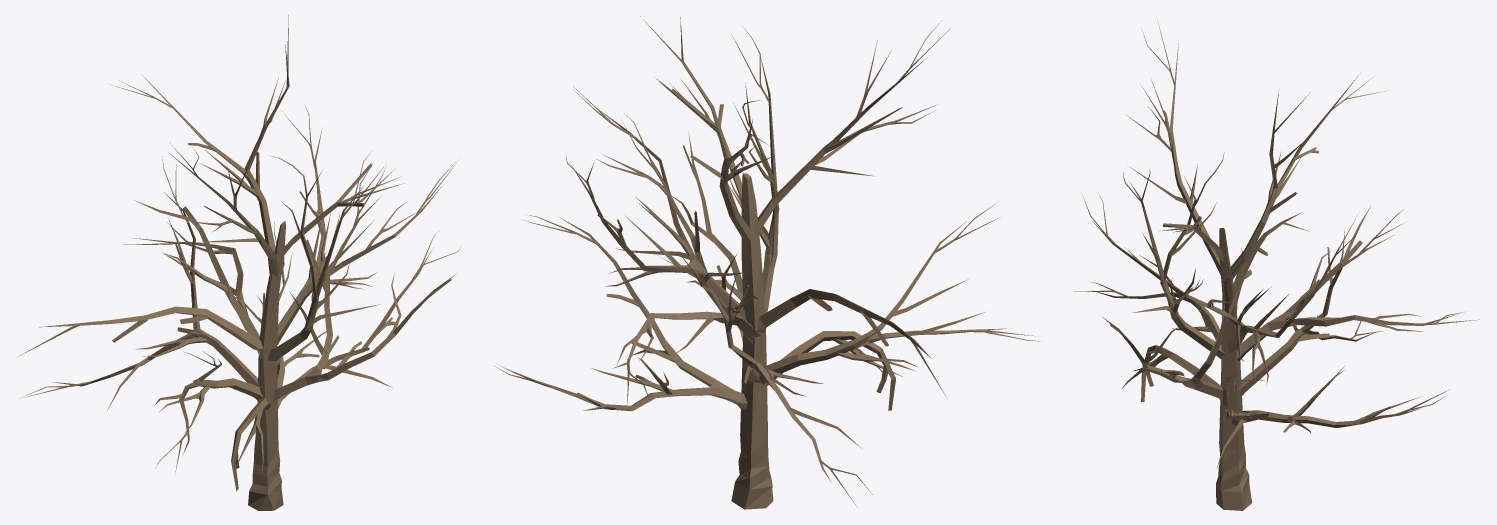
File: tree_bare_a_17.FBX
3 views of the same model, side by side, from view 1: azimuth 30°, elevation 25°; view 2: azimuth 150°, elevation 25°; view 3: azimuth 270°, elevation 25° (orthographic). The views are drawn at different scales.
Parts seen in each view (by area): view 1: tree_bare_a_17; view 2: tree_bare_a_17; view 3: tree_bare_a_17.
Part boxes in pixels (x1,y1,x2,y2): tree_bare_a_17: [18, 15, 460, 510]; tree_bare_a_17: [495, 16, 1041, 509]; tree_bare_a_17: [1074, 21, 1479, 510].
Bounding box in the file's own units: 7.7 × 7.93 × 6.63.
